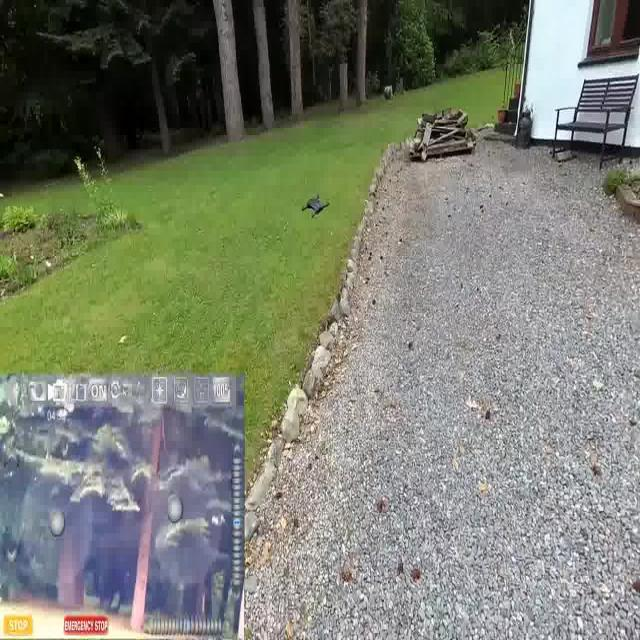drone: (298, 188, 336, 224)
